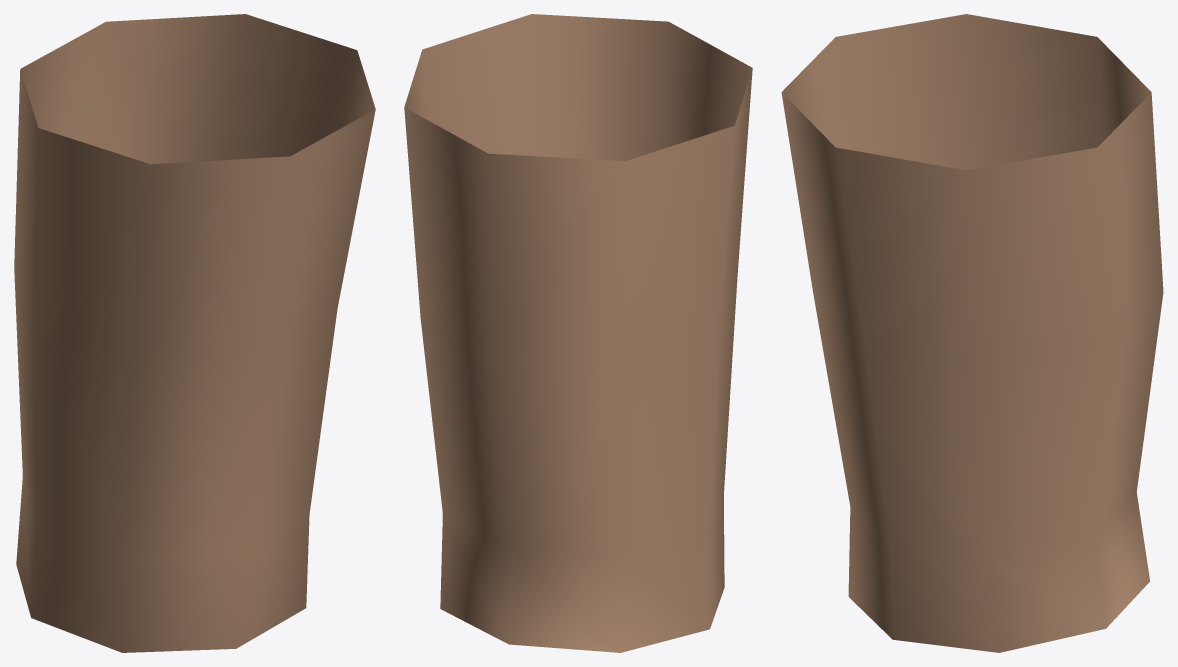
Rendered from leftupperfoot.obj.
3 views of the same model, side by side, from view 1: azimuth 30°, elevation 25°; view 2: azimuth 150°, elevation 25°; view 3: azimuth 270°, elevation 25° (orthographic). The views are drawn at different scales.
Parts seen in each view (by area): view 1: polySurface4 _Cylinder002; view 2: polySurface4 _Cylinder002; view 3: polySurface4 _Cylinder002.
Part boxes in pixels (x1,y1,x2,y2): polySurface4 _Cylinder002: (14,14,375,652); polySurface4 _Cylinder002: (404,14,752,652); polySurface4 _Cylinder002: (781,14,1163,652).
Size of the model in its own units: 7.5 by 11.5 by 7.74.
